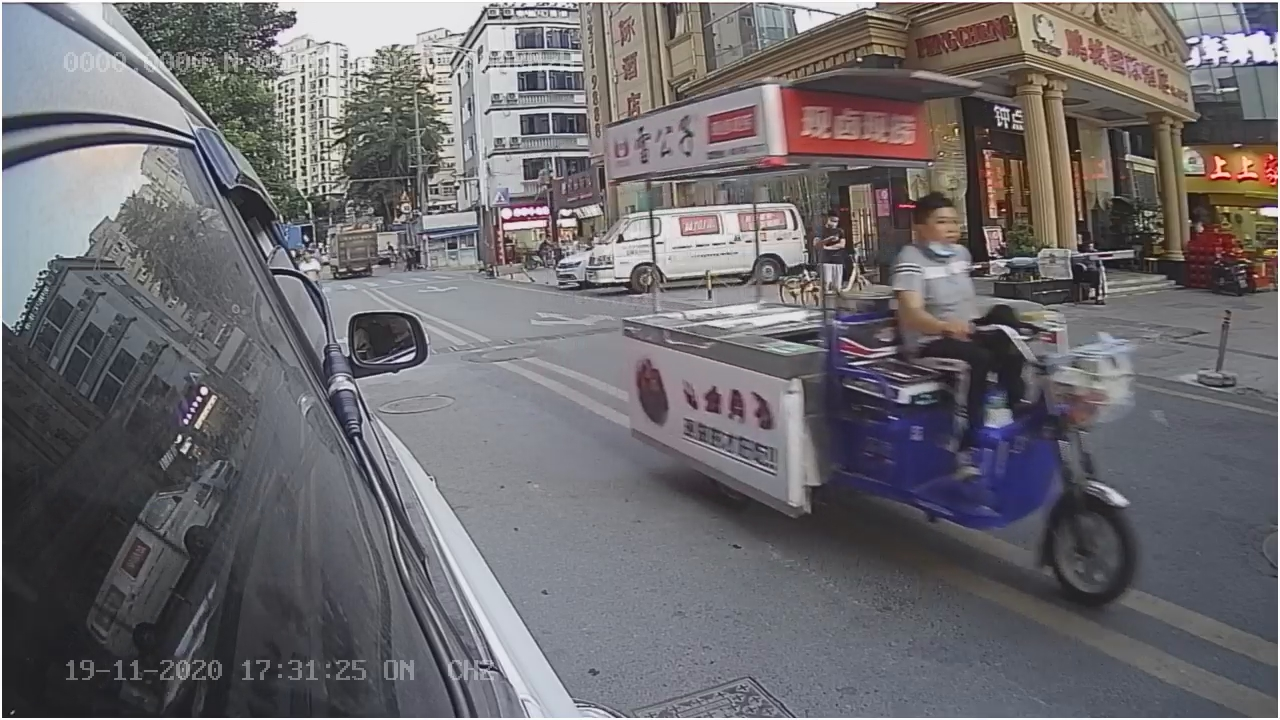person: (883, 192, 987, 338)
